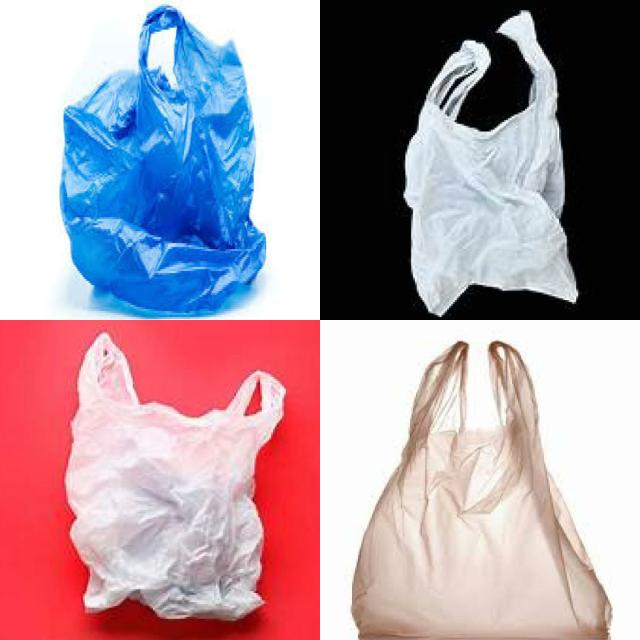Single-layer Plastic: (352, 341, 610, 639), (60, 6, 265, 314), (65, 334, 285, 620), (405, 11, 578, 316)
